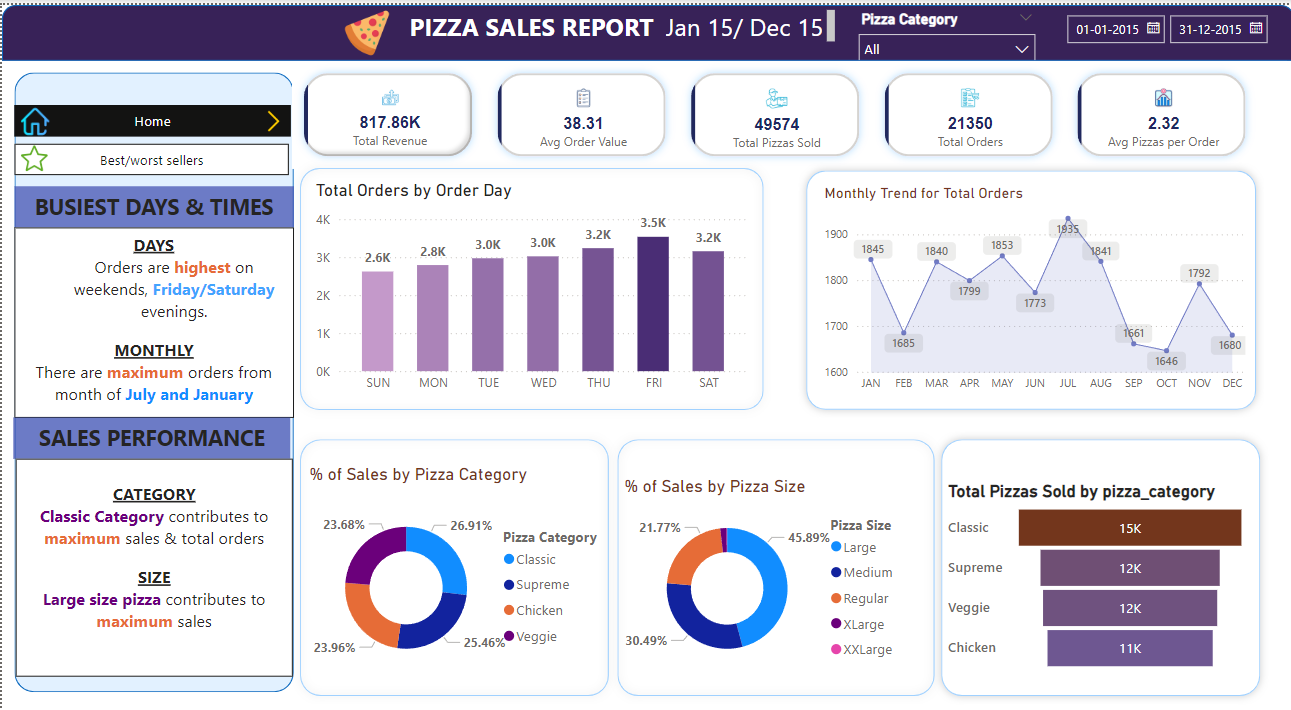

This screenshot's page, from the dashboard's own definition file:
{"tool":"powerbi","page":{"name":"Home","canvas":[1277,727],"ordinal":0},"visuals":[{"type":"shape","box":[11.8,66.9,275.8,612.2],"z":0},{"type":"cardVisual","fields":{"Data":["pizza_sales.Total Revenue","pizza_sales.Avg Order Value","pizza_sales.Total Pizzas Sold","pizza_sales.Total Orders","pizza_sales.Avg Pizzas per Order"]},"box":[286.6,55.2,958.5,106.7],"z":1000},{"type":"shape","box":[0,0,1276.8,55.2],"z":2000},{"type":"textbox","box":[397.9,0,438.6,55.2],"z":3000},{"type":"textbox","box":[651,0,177.2,41.6],"z":4000},{"type":"image","box":[331.9,0,56.1,55.2],"z":5000},{"type":"columnChart","fields":{"Category":["pizza_sales.Order Day"],"Y":["pizza_sales.Total Orders"]},"box":[304.7,172.7,436.7,218.8],"z":6000},{"type":"shape","box":[786.7,155.5,460.3,252.3],"z":7000},{"type":"areaChart","title":"Monthly Trend for Total Orders","fields":{"Category":["pizza_sales.Order Month"],"Y":["pizza_sales.Total Orders"]},"box":[807.5,176.3,425.9,214.3],"z":8000},{"type":"shape","box":[286.6,152.8,473.8,255],"z":9000},{"type":"shape","box":[919.6,420.5,330.9,269.5],"z":10000},{"type":"donutChart","title":"% of Sales by Pizza Category","fields":{"Category":["pizza_sales.pizza_category"],"Y":["pizza_sales.Total Revenue"]},"box":[299.3,453,301.1,226.1],"z":11000},{"type":"donutChart","title":"% of Sales by Pizza Size","fields":{"Y":["pizza_sales.Total Revenue"],"Category":["pizza_sales.pizza_size"]},"box":[609.5,465.7,292.1,202.5],"z":12000},{"type":"funnel","fields":{"Category":["pizza_sales.pizza_category"],"Y":["pizza_sales.Total Pizzas Sold"]},"box":[929.5,470.2,304.7,191.7],"z":13000},{"type":"shape","box":[600.4,420.5,329.1,269.5],"z":14000},{"type":"shape","box":[286.6,420.5,321,269.5],"z":15000},{"type":"textbox","box":[11.8,179,275.8,40.7],"z":16000},{"type":"textbox","box":[11.8,219.7,275.8,188.1],"z":17000},{"type":"textbox","box":[11.3,407.6,274,40.8],"z":18000},{"type":"textbox","box":[13.6,448.3,274,215.1],"z":19000},{"type":"slicer","fields":{"Values":["pizza_sales.pizza_category"]},"box":[836.4,0,194.4,54.3],"z":20000},{"type":"slicer","fields":{"Values":["pizza_sales.order_date"]},"box":[1039.9,0,236.9,54.3],"z":21000},{"type":"pageNavigator","box":[11.8,98.6,274,31.6],"z":21001},{"type":"pageNavigator","box":[12.7,136.5,271.3,31.6],"z":21002},{"type":"image","box":[253.2,98.6,30.7,31.6],"z":21003},{"type":"image","box":[12.7,95.8,40.7,38],"z":21004},{"type":"image","box":[12.7,133.8,39.8,36.2],"z":21005}]}

Visuals, with their boxes on the page's 1277x727 design canvas (x1, y1, x2, y2). These are canvas units, not pixel positions in the 1291x710 screenshot, which may show the page scaled, cropped or inside an application window:
shape: {"left": 12, "top": 67, "right": 288, "bottom": 679}
cardVisual - pizza_sales.Total Revenue x pizza_sales.Avg Order Value: {"left": 287, "top": 55, "right": 1245, "bottom": 162}
shape: {"left": 0, "top": 0, "right": 1277, "bottom": 55}
textbox: {"left": 398, "top": 0, "right": 836, "bottom": 55}
textbox: {"left": 651, "top": 0, "right": 828, "bottom": 42}
image: {"left": 332, "top": 0, "right": 388, "bottom": 55}
columnChart - pizza_sales.Order Day x pizza_sales.Total Orders: {"left": 305, "top": 173, "right": 741, "bottom": 392}
shape: {"left": 787, "top": 156, "right": 1247, "bottom": 408}
"Monthly Trend for Total Orders" areaChart: {"left": 808, "top": 176, "right": 1233, "bottom": 391}
shape: {"left": 287, "top": 153, "right": 760, "bottom": 408}
shape: {"left": 920, "top": 420, "right": 1250, "bottom": 690}
"% of Sales by Pizza Category" donutChart: {"left": 299, "top": 453, "right": 600, "bottom": 679}
"% of Sales by Pizza Size" donutChart: {"left": 610, "top": 466, "right": 902, "bottom": 668}
funnel - pizza_sales.pizza_category x pizza_sales.Total Pizzas Sold: {"left": 930, "top": 470, "right": 1234, "bottom": 662}
shape: {"left": 600, "top": 420, "right": 930, "bottom": 690}
shape: {"left": 287, "top": 420, "right": 608, "bottom": 690}
textbox: {"left": 12, "top": 179, "right": 288, "bottom": 220}
textbox: {"left": 12, "top": 220, "right": 288, "bottom": 408}
textbox: {"left": 11, "top": 408, "right": 285, "bottom": 448}
textbox: {"left": 14, "top": 448, "right": 288, "bottom": 663}
slicer - pizza_sales.pizza_category: {"left": 836, "top": 0, "right": 1031, "bottom": 54}
slicer - pizza_sales.order_date: {"left": 1040, "top": 0, "right": 1277, "bottom": 54}
pageNavigator: {"left": 12, "top": 99, "right": 286, "bottom": 130}
pageNavigator: {"left": 13, "top": 136, "right": 284, "bottom": 168}
image: {"left": 253, "top": 99, "right": 284, "bottom": 130}
image: {"left": 13, "top": 96, "right": 53, "bottom": 134}
image: {"left": 13, "top": 134, "right": 52, "bottom": 170}
